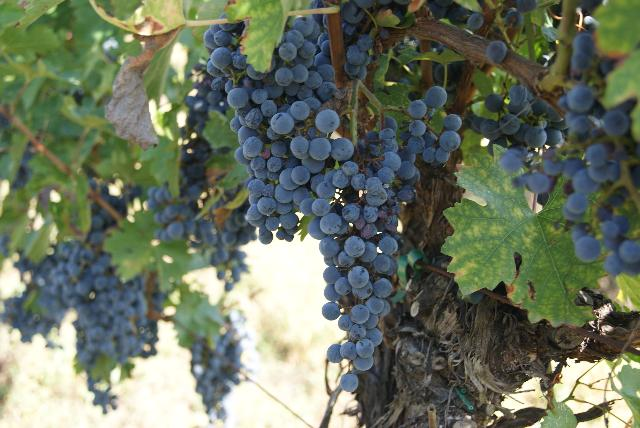grapes: (304, 89, 448, 371), (500, 31, 640, 278), (192, 16, 334, 244), (4, 241, 158, 412)
